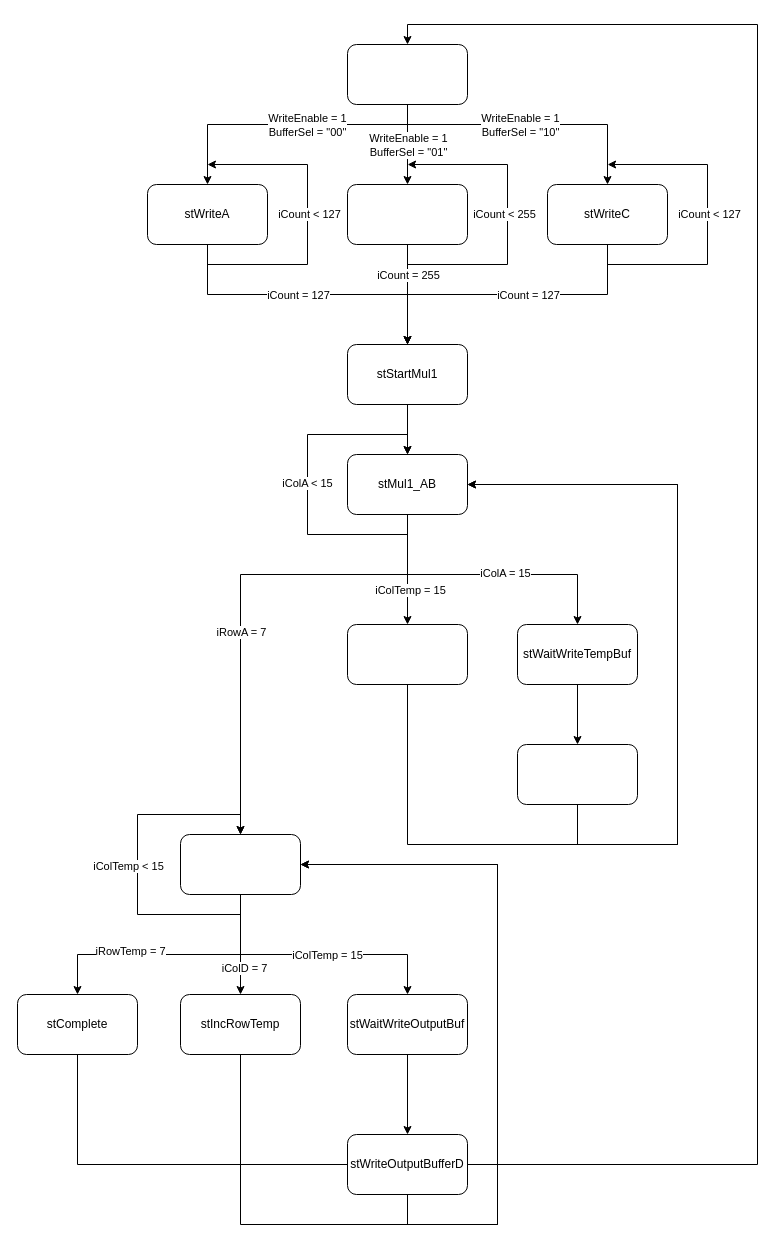
This 783x1250 diagram has some shape labels left out. Here are the shapes that lost their labels. From the top down, the centre of each, then its label:
[407,74]: stIdle
[407,214]: stWriteB
[407,654]: stIncRowA
[577,774]: stWriteTempBuf
[240,864]: stMul2_TC
